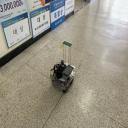cart: (50, 60, 76, 94)
